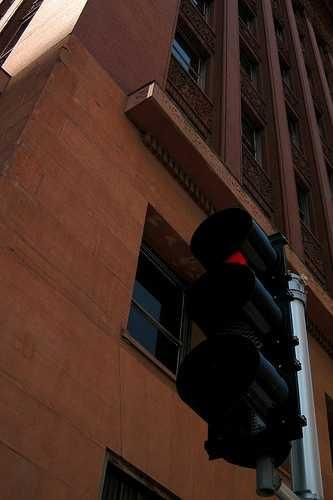red: (188, 205, 283, 462)
